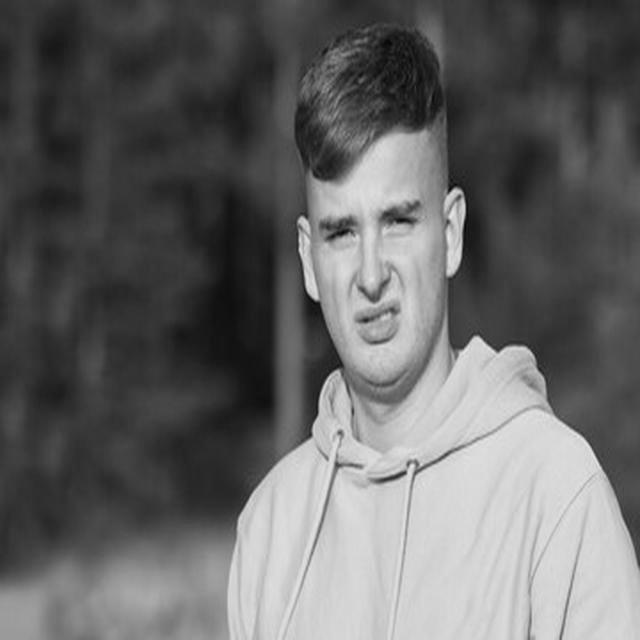Disgust: (307, 130, 441, 384)
